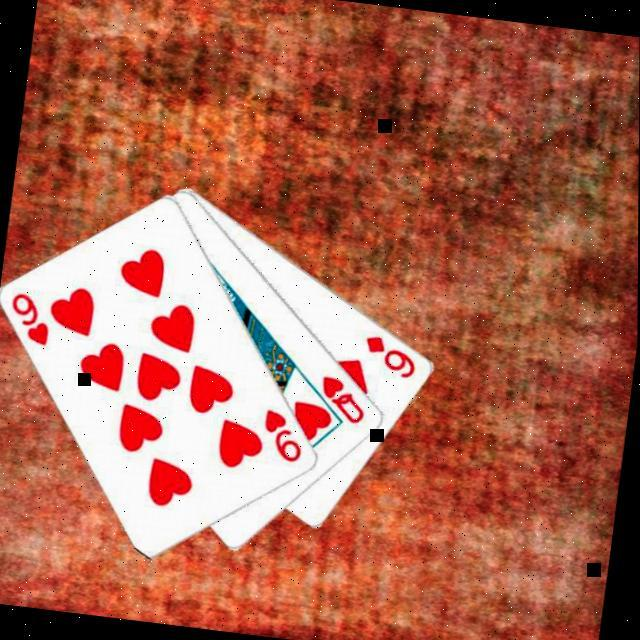6D: (361, 332, 424, 384)
9H: (259, 407, 311, 468), (6, 290, 58, 350)
QH: (316, 374, 374, 429)
